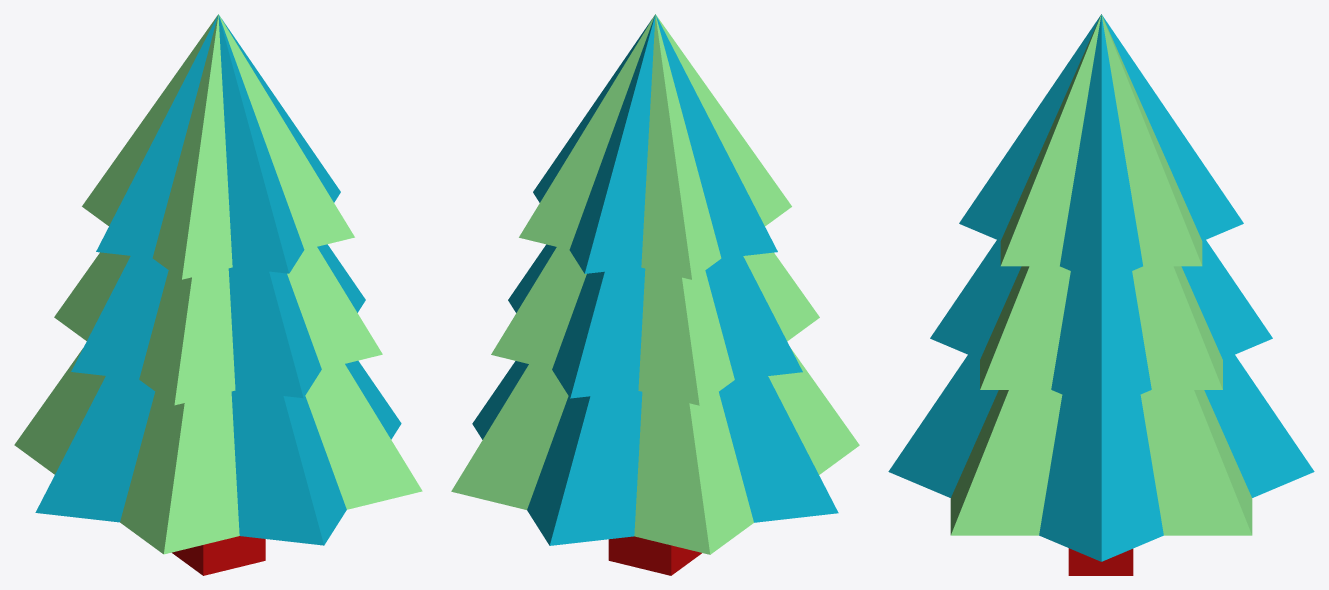
Rendered from Sapin.FBX.
3 renders of one model, left to right at view 1: azimuth 30°, elevation 25°; view 2: azimuth 150°, elevation 25°; view 3: azimuth 270°, elevation 25°, orthographic.
Parts seen in each view (by area): view 1: pinetree; view 2: pinetree; view 3: pinetree.
Boxes of the visible parts, bbox=[...] form: pinetree: bbox=[14, 14, 422, 575]; pinetree: bbox=[451, 14, 859, 575]; pinetree: bbox=[888, 14, 1314, 575].
Bounding box in the file's own units: 0.1436 × 0.2032 × 0.1436.
